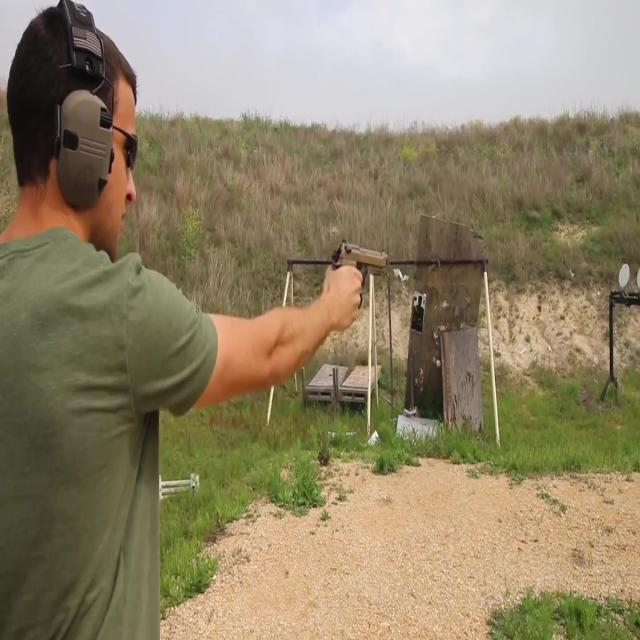Weapon: (309, 173, 428, 347)
